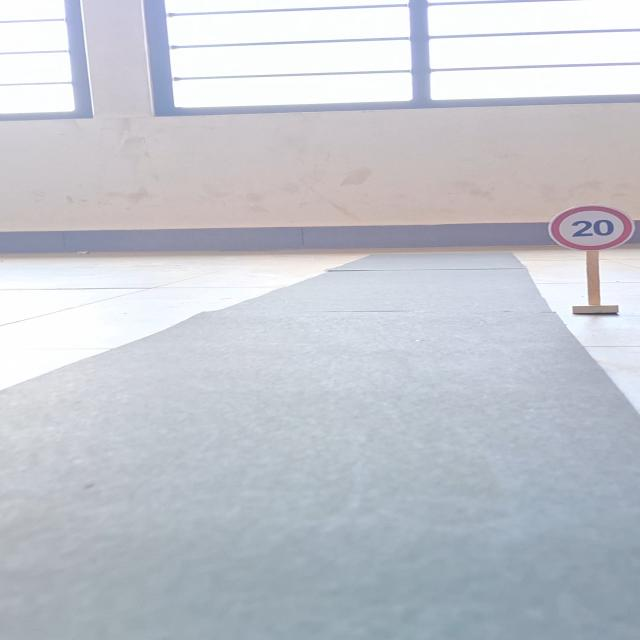Speed20: (544, 202, 636, 256)
